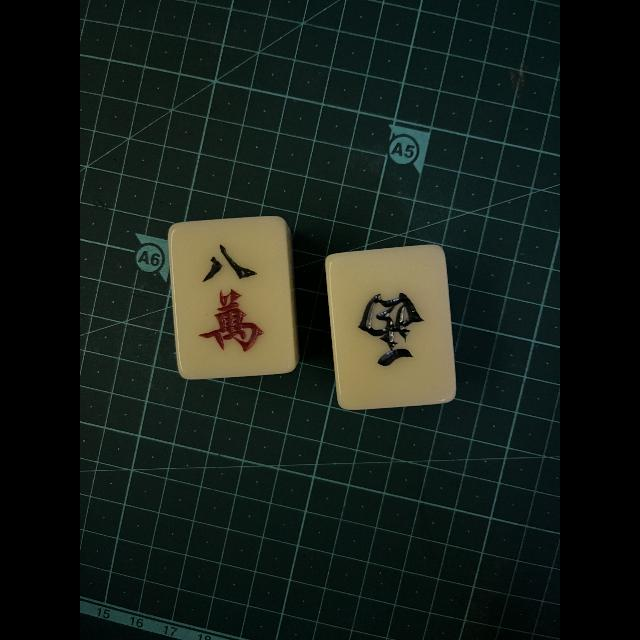c8: (171, 220, 291, 372)
ww: (333, 252, 449, 402)
